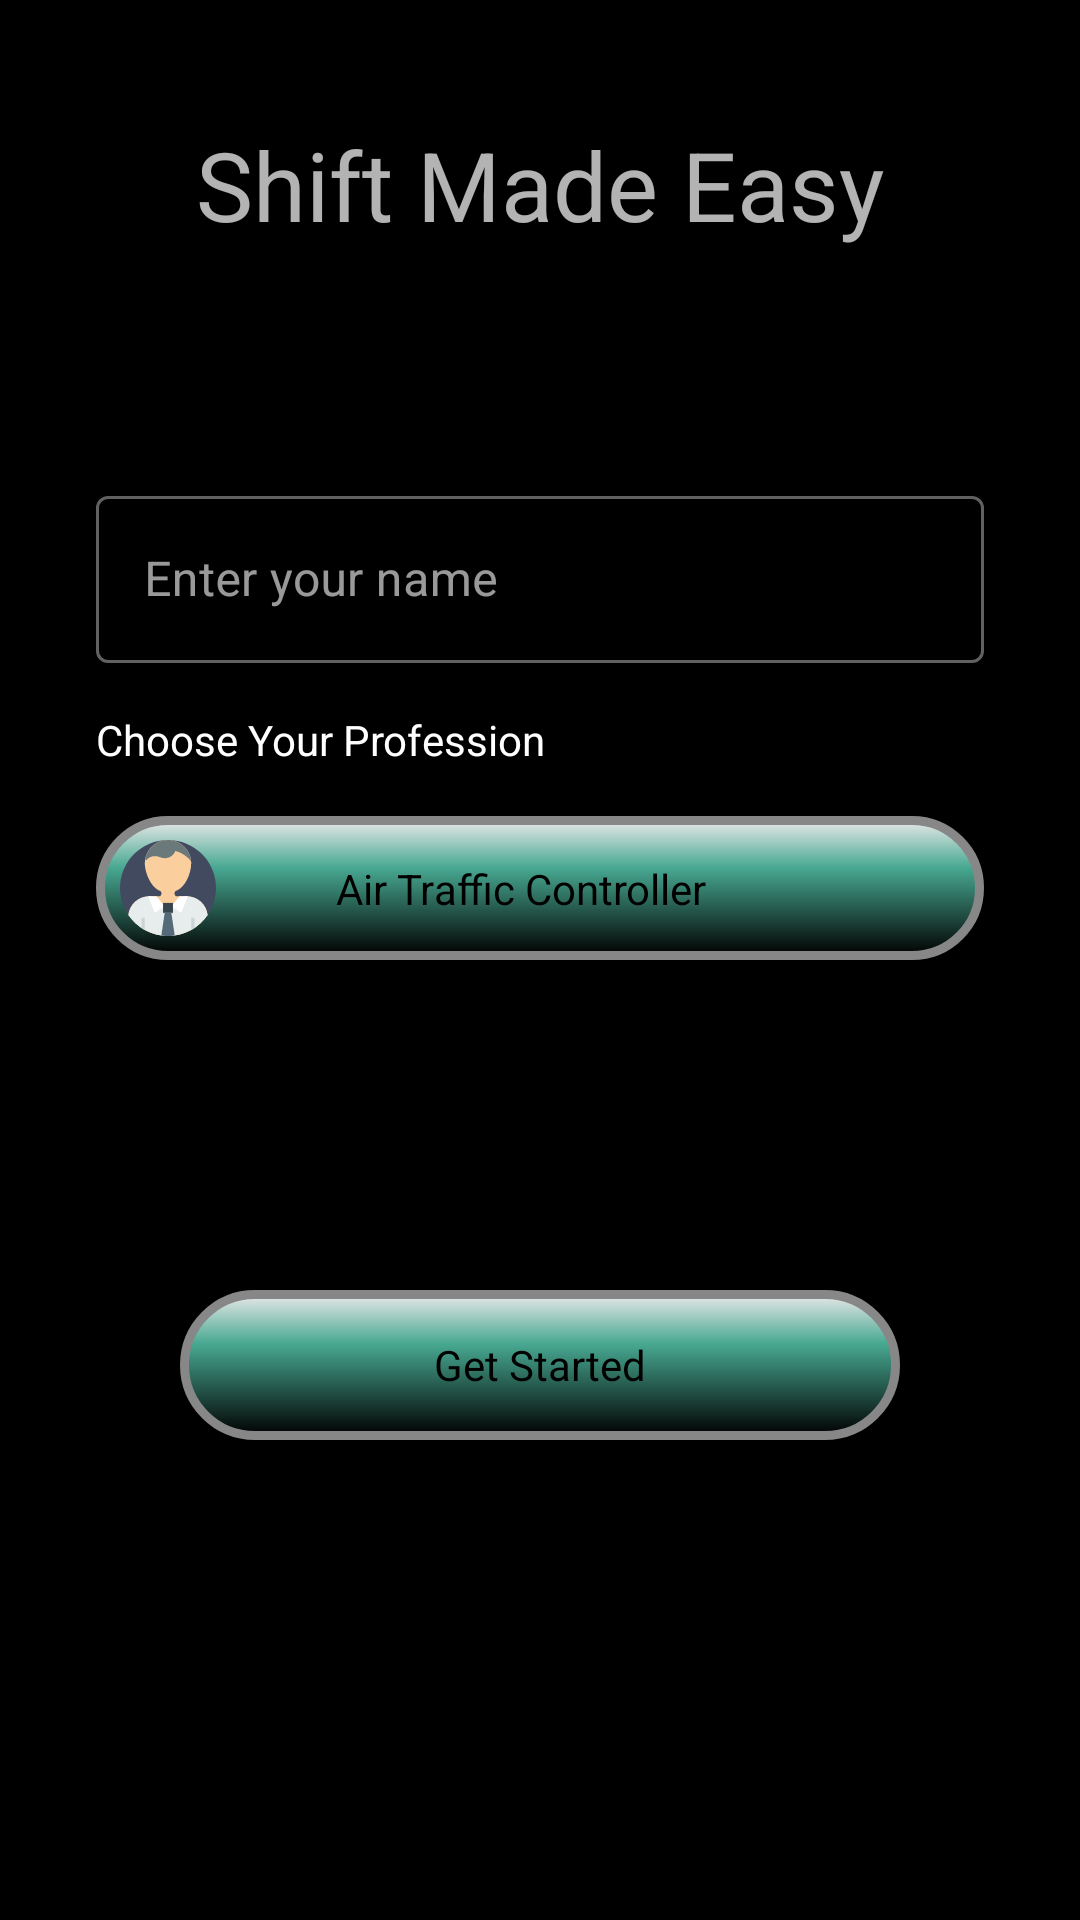

Icon bounding boxes for this 1080×1920 phone screenshot, format region(x1, y1, x2, y2):
user boy: region(96, 816, 240, 960)
